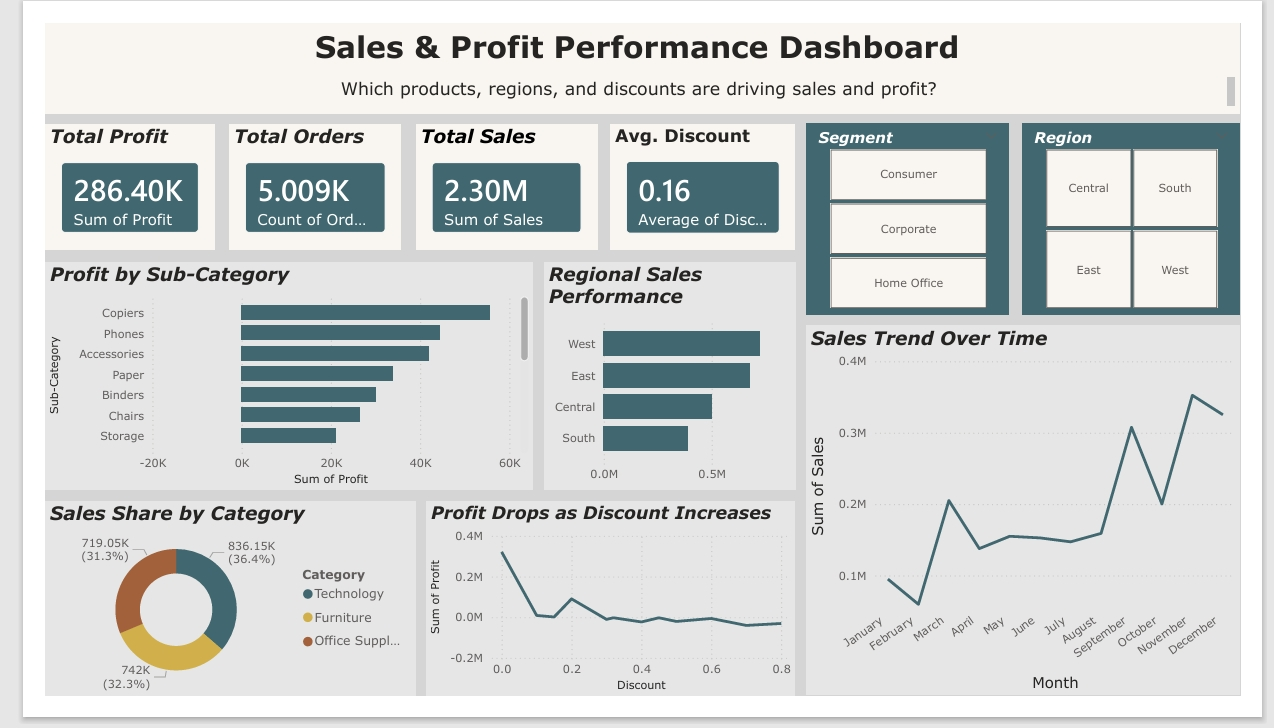

What the dashboard file says about the page in this screenshot:
{"tool":"powerbi","page":{"name":"Page 1","canvas":[1280,720],"ordinal":0},"visuals":[{"type":"cardVisual","title":"Total Orders","fields":{"Data":["Count(sales1 xlsc.Order ID)"]},"box":[198.6,108.6,182.9,134.3],"z":0},{"type":"cardVisual","title":"Total Sales","fields":{"Data":["Sum(sales1 xlsc.Sales)"]},"box":[396.5,108.5,194.9,133.9],"z":1000},{"type":"cardVisual","title":"Total Profit","fields":{"Data":["Sum(sales1 xlsc.Profit)"]},"box":[0,108.5,181.3,133.9],"z":2000},{"type":"donutChart","title":"Sales Share by Category","fields":{"Category":["sales1 xlsc.Category"],"Y":["Sum(sales1 xlsc.Sales)"]},"box":[0,511.8,396.5,208.4],"z":3000},{"type":"barChart","title":" Profit by Sub-Category","fields":{"Category":["sales1 xlsc.Sub-Category"],"Y":["Sum(sales1 xlsc.Profit)"]},"box":[0,255.9,521.9,244],"z":4000},{"type":"clusteredBarChart","title":" Regional Sales Performance","fields":{"Category":["sales1 xlsc.Region"],"Y":["Sum(sales1 xlsc.Sales)"]},"box":[533.8,255.9,269.4,244],"z":5000},{"type":"slicer","fields":{"Values":["sales1 xlsc.Segment"]},"box":[815.1,106.8,216.9,205],"z":6000},{"type":"slicer","fields":{"Values":["sales1 xlsc.Region"]},"box":[1045.6,106.8,233.9,205],"z":7000},{"type":"lineChart","title":"Sales Trend Over Time","fields":{"Y":["Sum(sales1 xlsc.Sales)"],"Category":["sales1 xlsc.Order Date.Variation.Date Hierarchy.Year","sales1 xlsc.Order Date.Variation.Date Hierarchy.Month"]},"box":[815.1,323.7,464.3,396.5],"z":8000},{"type":"lineChart","title":"Profit Drops as Discount Increases","fields":{"Category":["sales1 xlsc.Discount"],"Y":["Sum(sales1 xlsc.Profit)"]},"box":[408.4,511.8,394.8,208.4],"z":9000},{"type":"textbox","box":[0,0,1279.4,71.2],"z":10000},{"type":"cardVisual","title":"Avg. Discount","fields":{"Data":["Avg(sales1 xlsc.Discount)"]},"box":[605,108.5,198.3,133.9],"z":11000},{"type":"textbox","box":[0,52.5,1279.4,44.1],"z":11001}]}

Visuals, with their boxes in screenshot pixels (x1, y1, x2, y2), scaled from the page's 1280x720 canvas onto the 1274x728 screenshot:
"Total Orders" cardVisual: (left=198, top=110, right=380, bottom=246)
"Total Sales" cardVisual: (left=395, top=110, right=589, bottom=245)
"Total Profit" cardVisual: (left=0, top=110, right=180, bottom=245)
"Sales Share by Category" donutChart: (left=0, top=517, right=395, bottom=727)
" Profit by Sub-Category" barChart: (left=0, top=259, right=519, bottom=505)
" Regional Sales Performance" clusteredBarChart: (left=531, top=259, right=799, bottom=505)
slicer - sales1 xlsc.Segment: (left=811, top=108, right=1027, bottom=315)
slicer - sales1 xlsc.Region: (left=1041, top=108, right=1273, bottom=315)
"Sales Trend Over Time" lineChart: (left=811, top=327, right=1273, bottom=727)
"Profit Drops as Discount Increases" lineChart: (left=406, top=517, right=799, bottom=727)
textbox: (left=0, top=0, right=1273, bottom=72)
"Avg. Discount" cardVisual: (left=602, top=110, right=800, bottom=245)
textbox: (left=0, top=53, right=1273, bottom=98)
